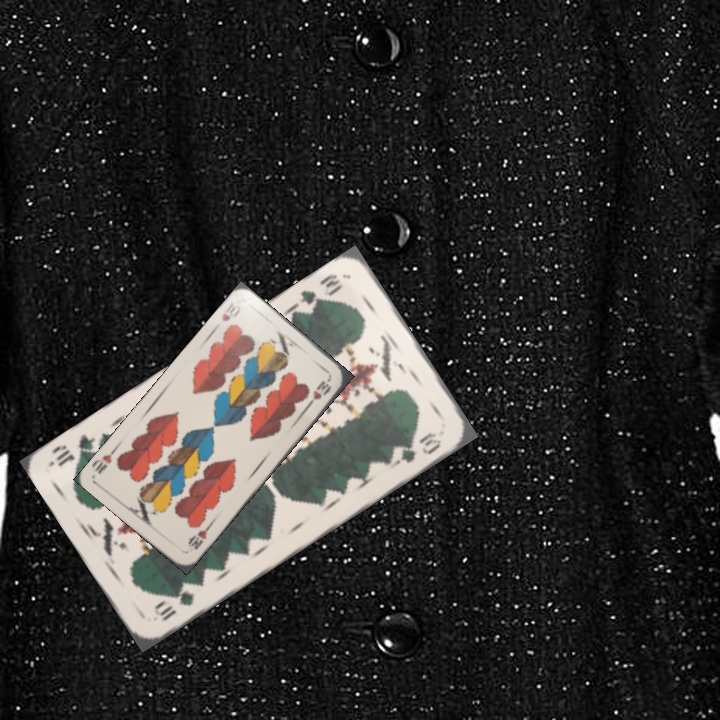G10: (296, 269, 345, 312), (150, 586, 197, 624)
H10: (184, 520, 213, 552), (217, 299, 243, 324)
